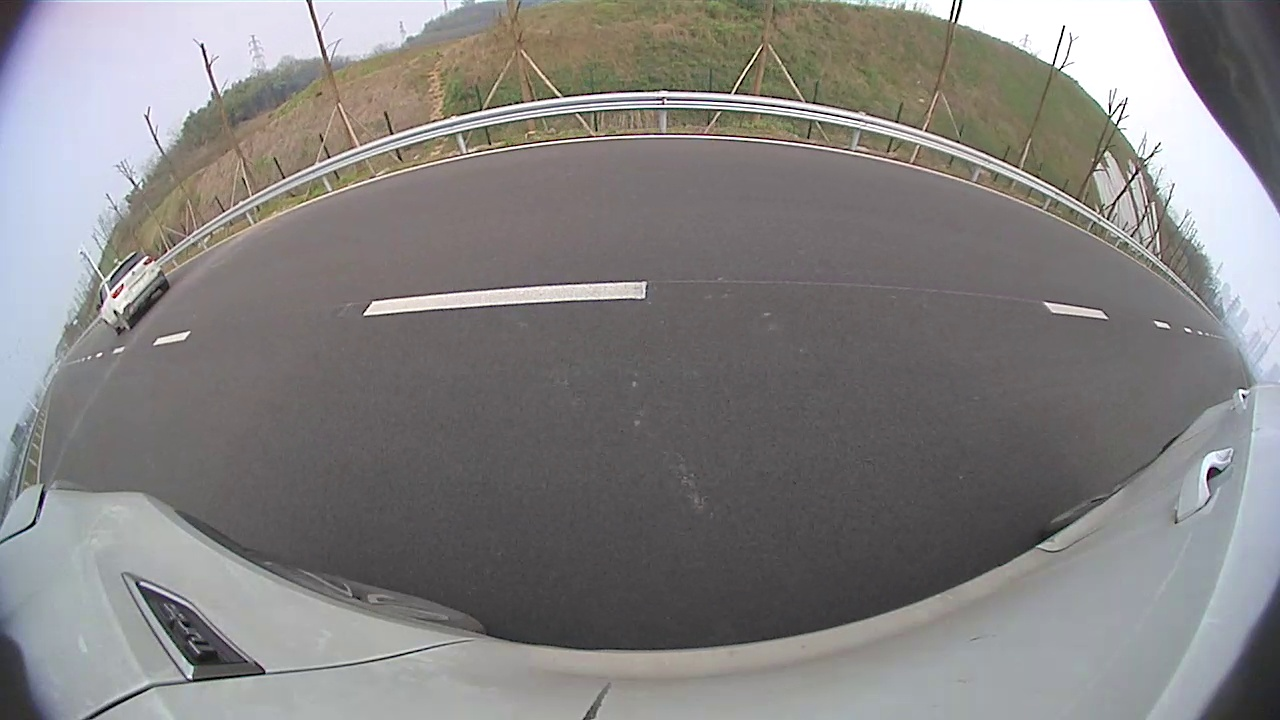car: (97, 251, 170, 336)
rear: (114, 311, 131, 331)
